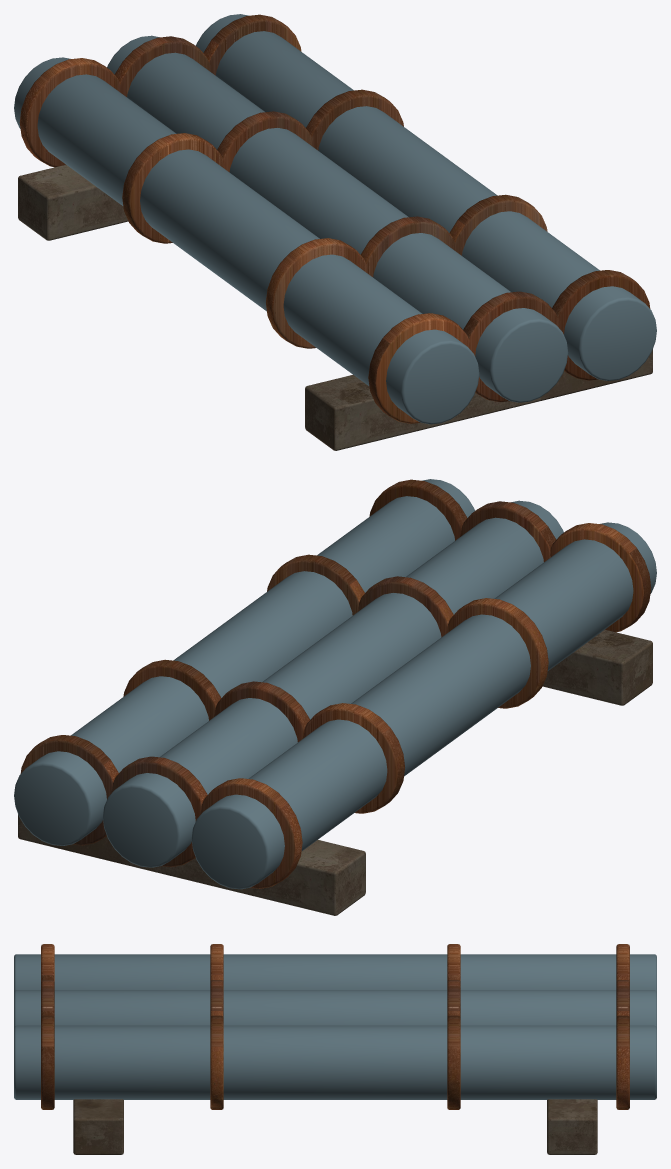
Rendered from industrial-pipes.glb.
3 views of the same model, one above another, from view 1: azimuth 30°, elevation 25°; view 2: azimuth 150°, elevation 25°; view 3: azimuth 270°, elevation 25° (orthographic). The views are drawn at different scales.
Visible parts, largest first — view 1: industrial-pipes; view 2: industrial-pipes; view 3: industrial-pipes.
Boxes of the visible parts, box(x1,y1,x2,y2) form: industrial-pipes: box(14, 14, 656, 450); industrial-pipes: box(14, 479, 656, 915); industrial-pipes: box(14, 944, 656, 1154).
Bounding box in the file's own units: 1.8 × 0.7 × 3.8.
Materials: 3 (2 with a texture image).
